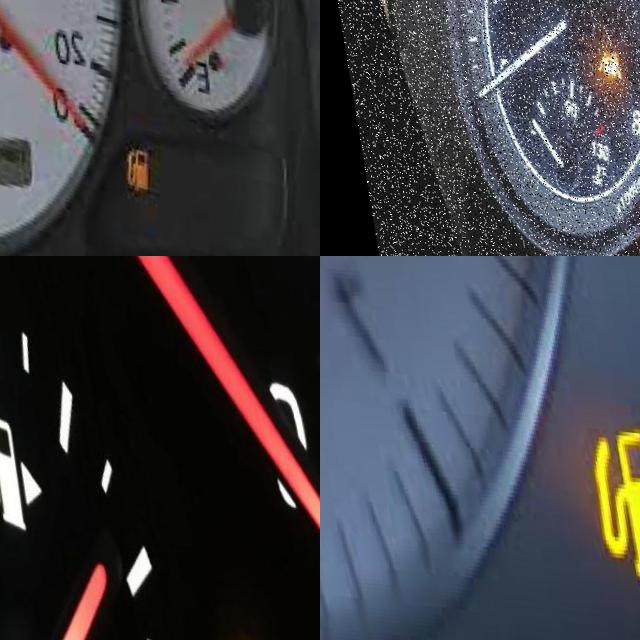Electronic Power Steering: (596, 210, 640, 256)
